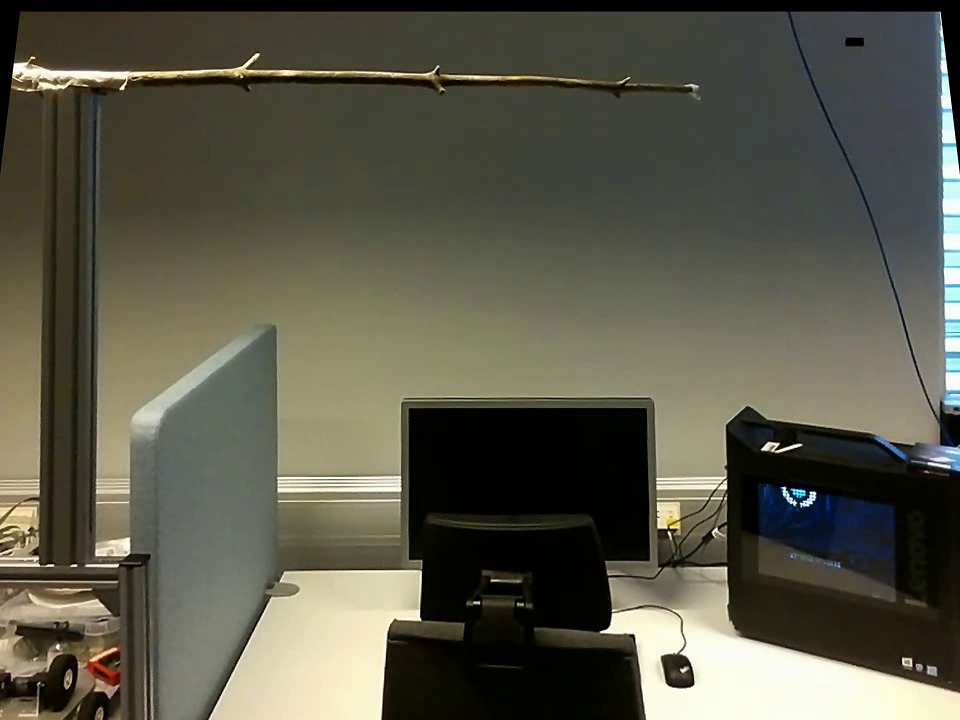aluminum_frame: (31, 93, 99, 560), (109, 552, 169, 717), (1, 545, 126, 594)
branch: (134, 39, 682, 112)
